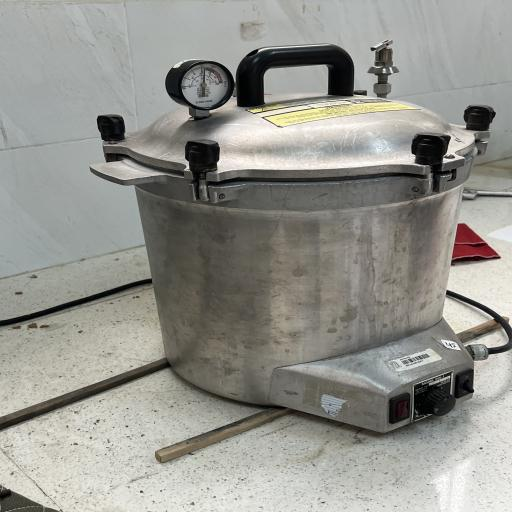Autoclave: (83, 37, 505, 444)
